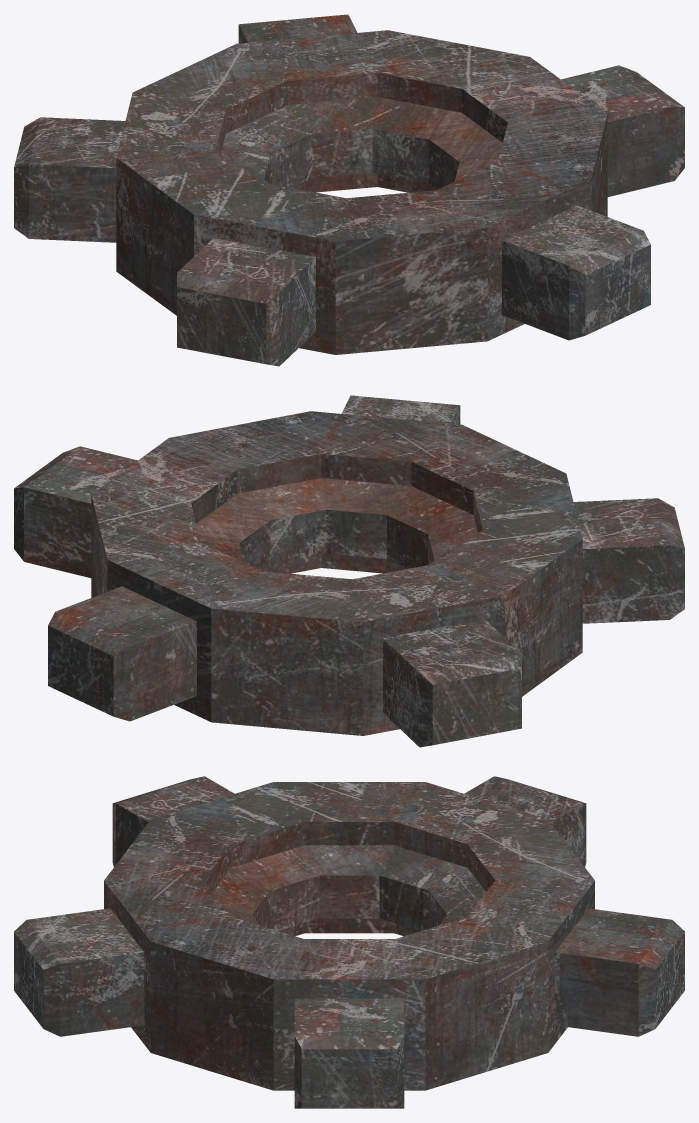
The model's file is Cog02.fbx.
3 views of the same model, one above another, from view 1: azimuth 30°, elevation 25°; view 2: azimuth 150°, elevation 25°; view 3: azimuth 270°, elevation 25° (orthographic). The views are drawn at different scales.
Visible parts, largest first — view 1: Cog02; view 2: Cog02; view 3: Cog02.
Boxes of the visible parts, x1,y1,x2,y2 form: Cog02: (14, 14, 684, 366); Cog02: (14, 395, 684, 747); Cog02: (14, 776, 684, 1108).
Size of the model in its own units: 260 by 50.13 by 273.
